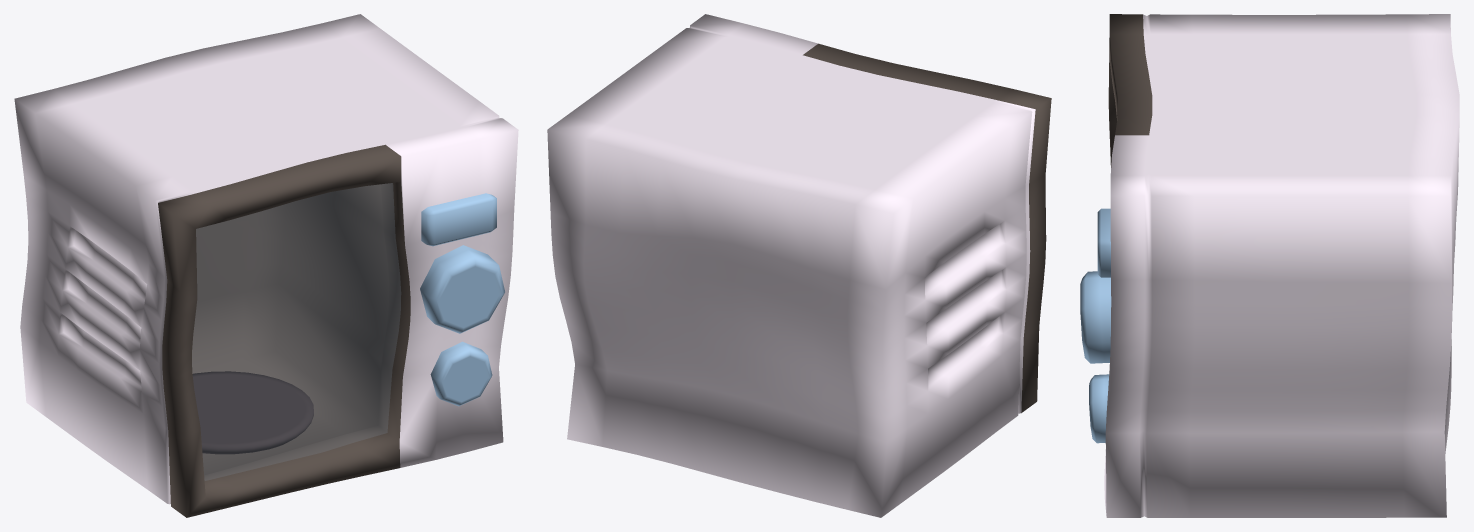
Rendered from Props_MicroOnde.fbx.
3 renders of one model, left to right at view 1: azimuth 30°, elevation 25°; view 2: azimuth 150°, elevation 25°; view 3: azimuth 270°, elevation 25°, orthographic. The views are drawn at different scales.
Visible parts, largest first — view 1: Cylinder; view 2: Cylinder; view 3: Cylinder.
Part boxes in pixels (x1,y1,x2,y2): Cylinder: (14, 14, 518, 517); Cylinder: (547, 14, 1051, 517); Cylinder: (1080, 14, 1459, 517).
Bounding box in the file's own units: 67.13 × 56.88 × 59.14.
